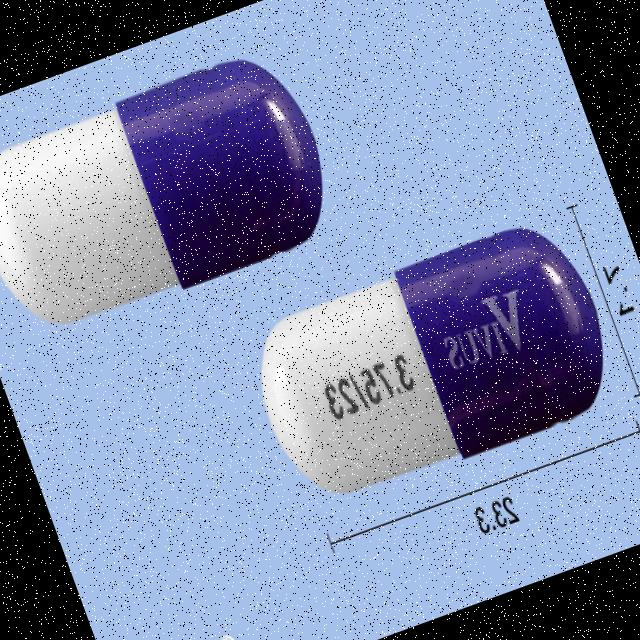Qsymia Cap-3-75mg: (234, 207, 630, 520), (0, 37, 347, 345)
